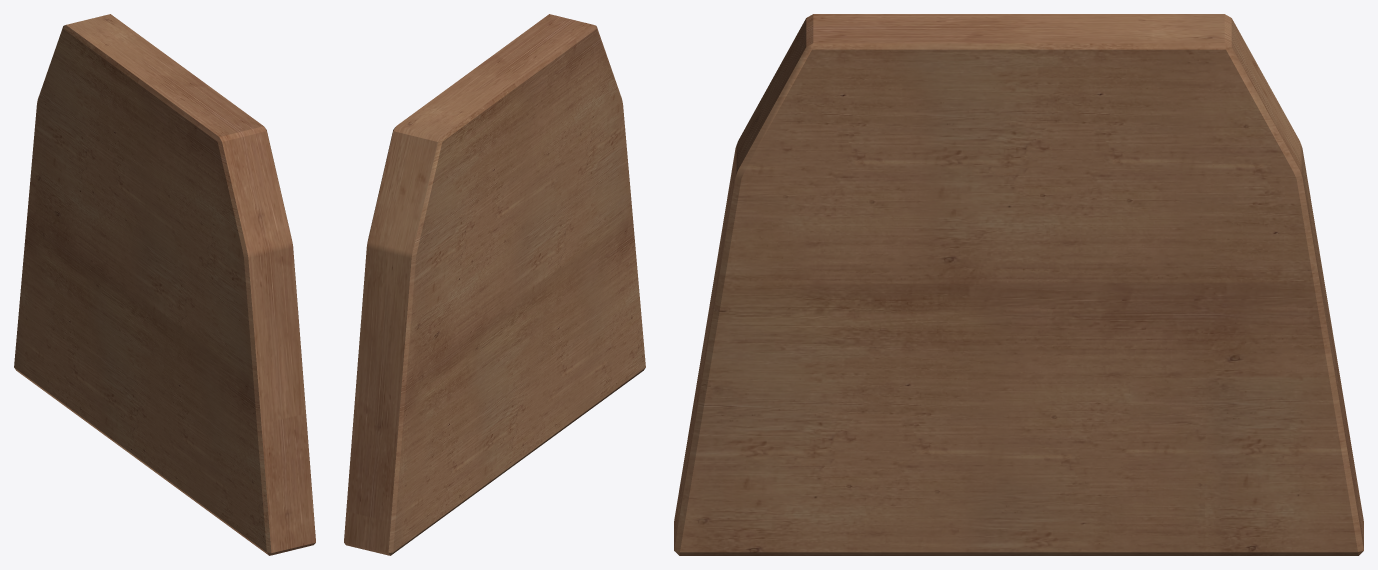
The model's file is SM_JSH_WoodornamentD.fbx.
The picture shows the model from 3 angles, left to right: view 1: azimuth 30°, elevation 25°; view 2: azimuth 150°, elevation 25°; view 3: azimuth 270°, elevation 25°; orthographic projection. The views are drawn at different scales.
Parts seen in each view (by area): view 1: SM_JSH_WoodornamentD; view 2: SM_JSH_WoodornamentD; view 3: SM_JSH_WoodornamentD.
Part boxes in pixels (bbox=[...]): SM_JSH_WoodornamentD: bbox=[14, 14, 315, 555]; SM_JSH_WoodornamentD: bbox=[344, 14, 645, 555]; SM_JSH_WoodornamentD: bbox=[674, 14, 1363, 555].
Size of the model in its own units: 7.44 by 67.38 by 55.26.
Materials: 1 (1 with a texture image).
